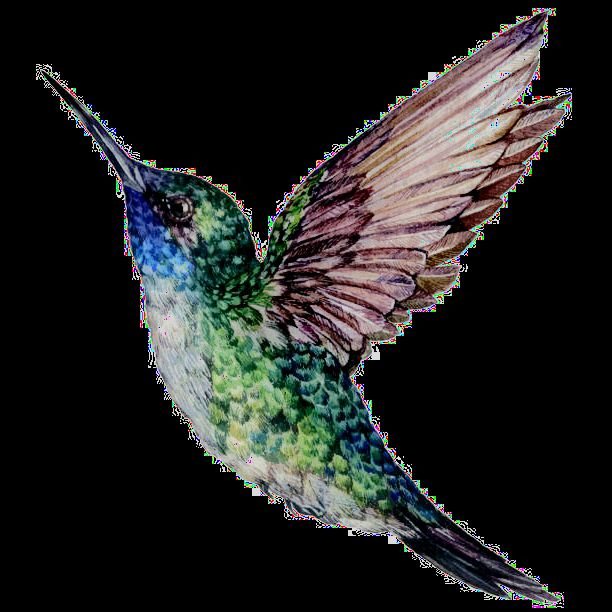Bird: (32, 7, 580, 607)
